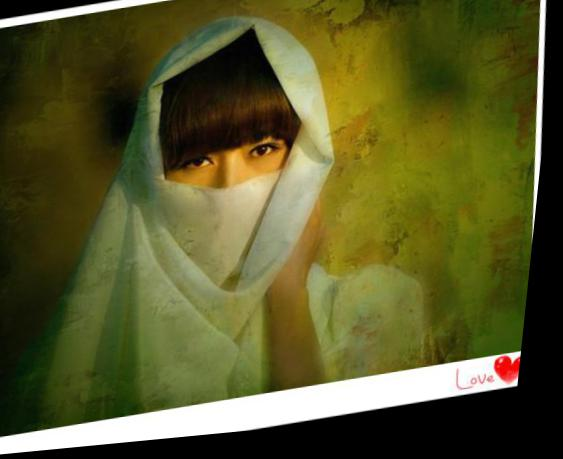WRONG: (158, 120, 311, 272)
